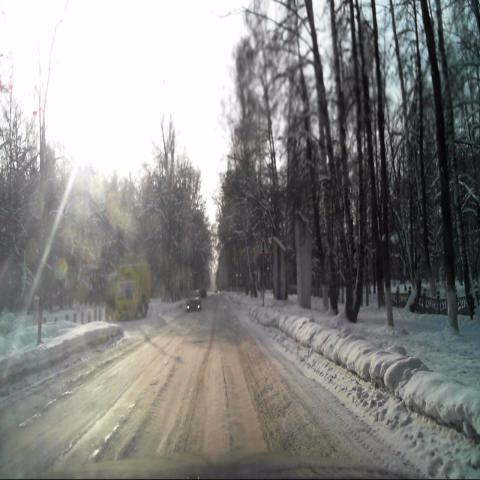1_33: (257, 235, 269, 256)
